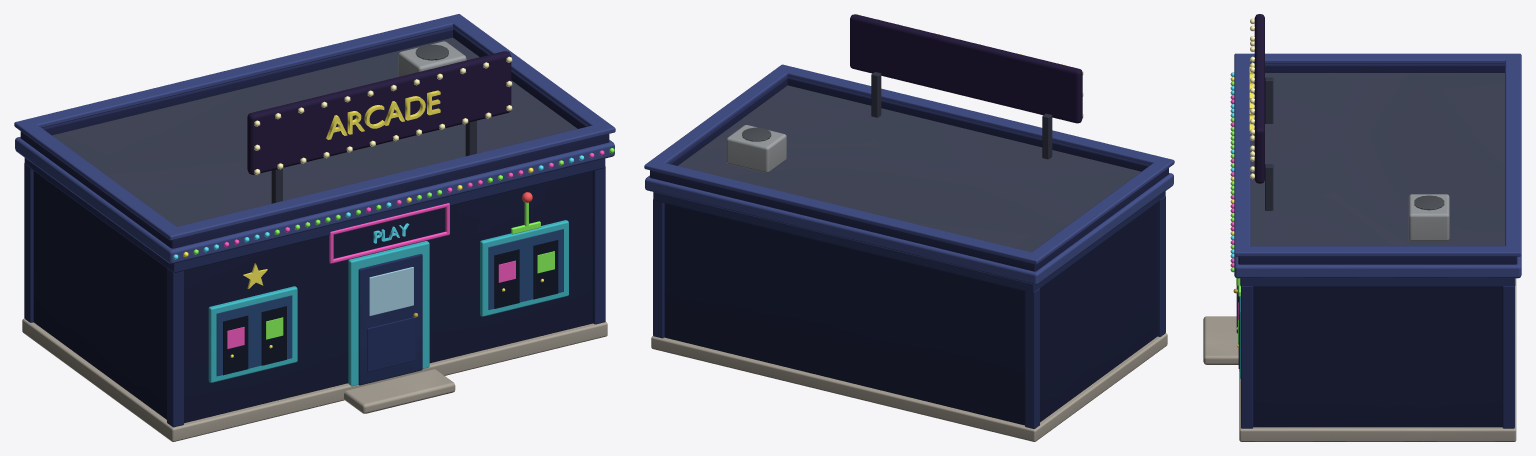
File: bld_arcade.glb
3 views of the same model, side by side, from view 1: azimuth 30°, elevation 25°; view 2: azimuth 150°, elevation 25°; view 3: azimuth 270°, elevation 25° (orthographic). The views are drawn at different scales.
Parts seen in each view (by area): view 1: bld_arcade_main, bld_arcade_glass, bld_arcade_glow, Text.009; view 2: bld_arcade_main; view 3: bld_arcade_main, bld_arcade_glow.
Boxes of the visible parts, bbox=[...] form: bld_arcade_main: bbox=[14, 14, 615, 441]; bld_arcade_glass: bbox=[216, 229, 563, 376]; bld_arcade_glow: bbox=[173, 56, 614, 357]; Text.009: bbox=[326, 90, 440, 139]; bld_arcade_main: bbox=[644, 14, 1174, 441]; bld_arcade_main: bbox=[1203, 14, 1521, 441]; bld_arcade_glow: bbox=[1230, 18, 1254, 347].
Size of the model in its own units: 4.6 by 2.95 by 3.1.
